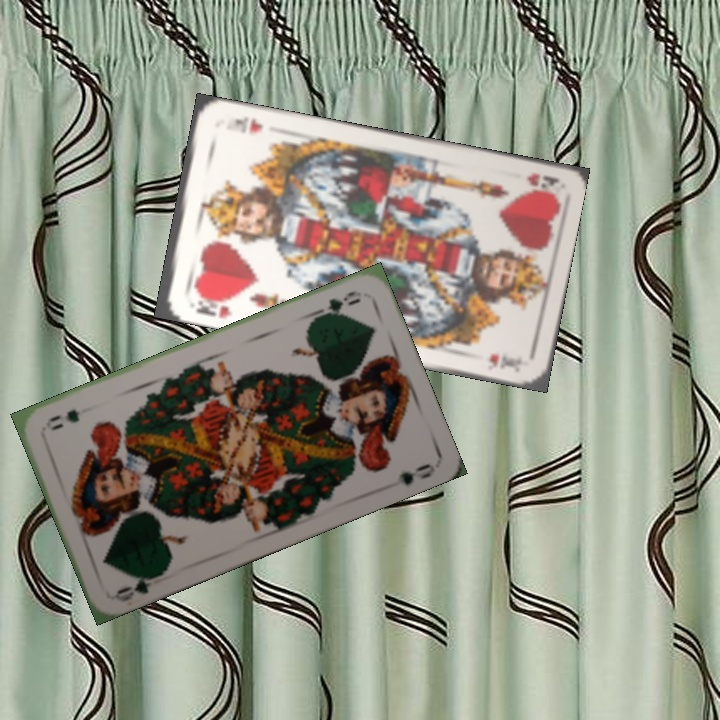GO: (111, 567, 167, 605), (309, 286, 364, 321)
HK: (192, 289, 235, 321), (523, 168, 561, 196)
